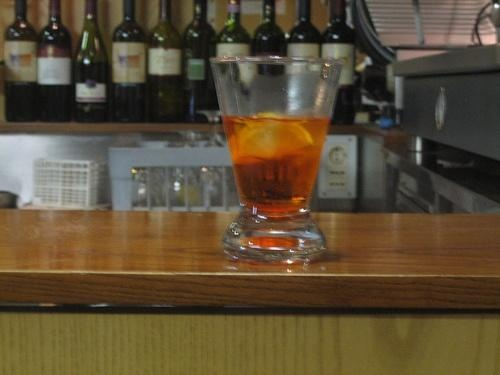bottle: (36, 1, 72, 122), (111, 2, 146, 126), (183, 1, 218, 124), (147, 3, 182, 124), (75, 3, 110, 123), (323, 2, 355, 128), (5, 2, 38, 122), (288, 3, 323, 58), (254, 2, 288, 55), (217, 1, 249, 56)
